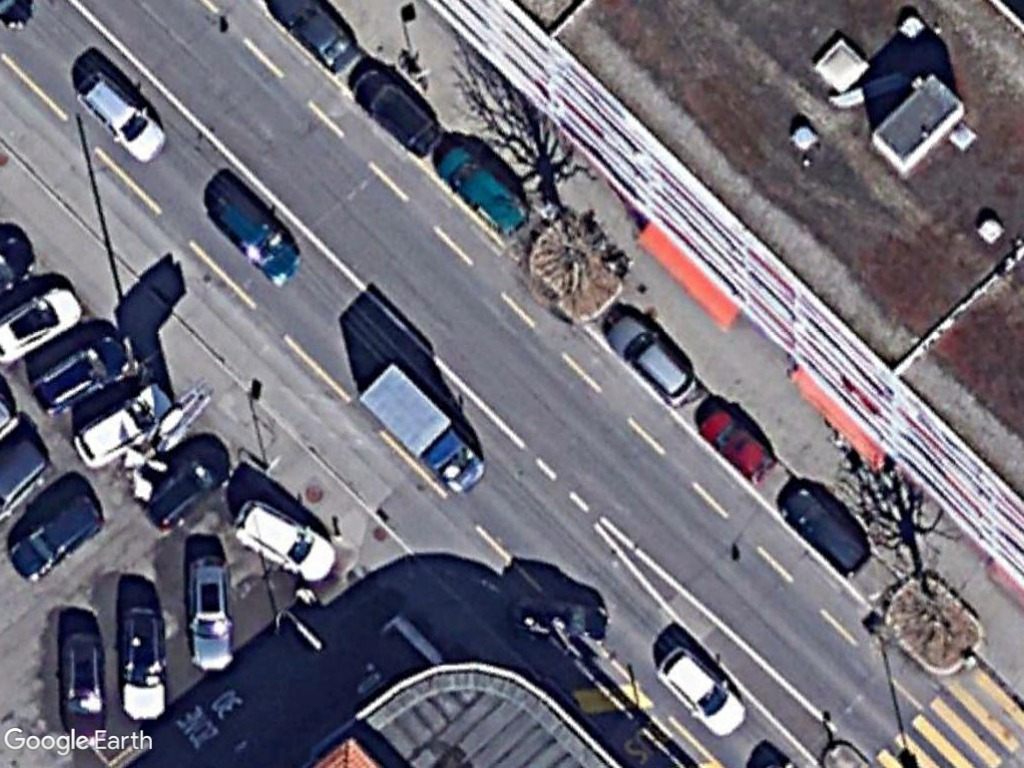car: (599, 309, 703, 410), (344, 66, 450, 163), (67, 380, 177, 471), (234, 493, 340, 587), (775, 479, 871, 581), (214, 183, 303, 291), (31, 329, 141, 416), (7, 491, 108, 584), (655, 642, 752, 738), (438, 143, 534, 239), (74, 69, 168, 166), (140, 441, 236, 531), (114, 600, 169, 728), (700, 399, 780, 487), (0, 284, 84, 367), (182, 550, 237, 676)
truck: (354, 361, 488, 500)
